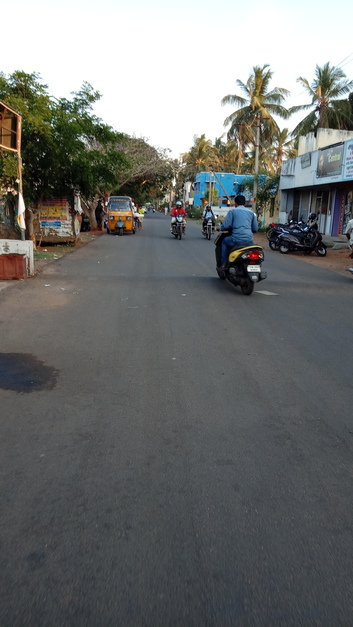bump: (31, 272, 353, 294)
